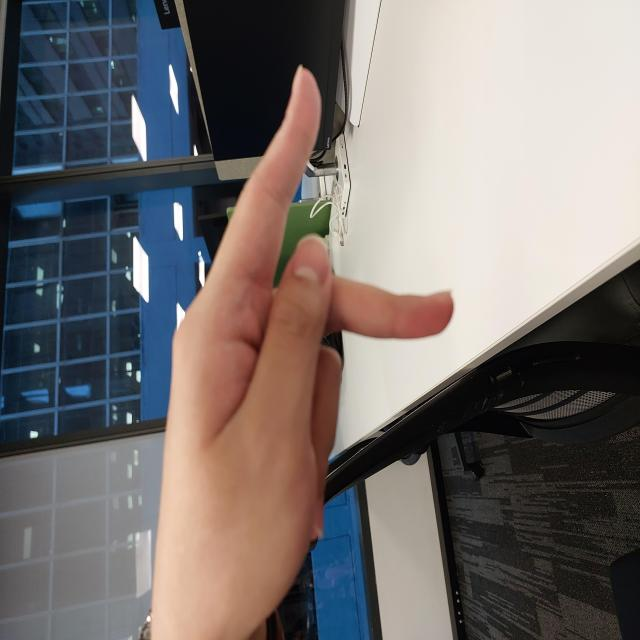P: (114, 167, 576, 452)
